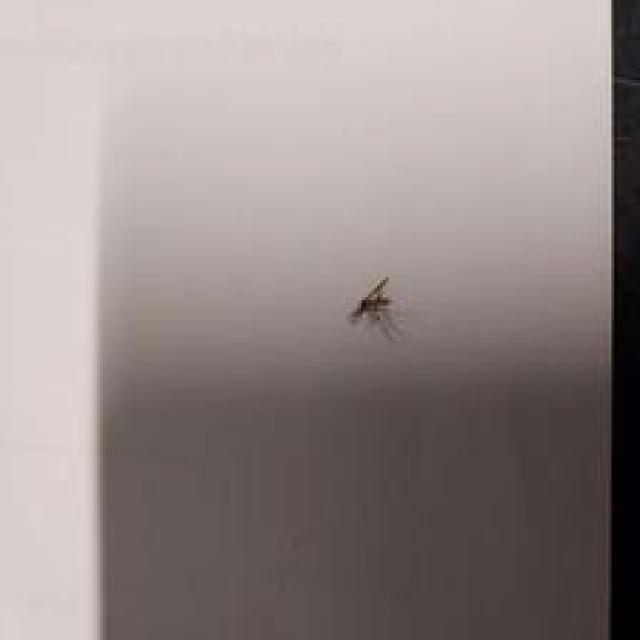Culex: (347, 274, 396, 326)
